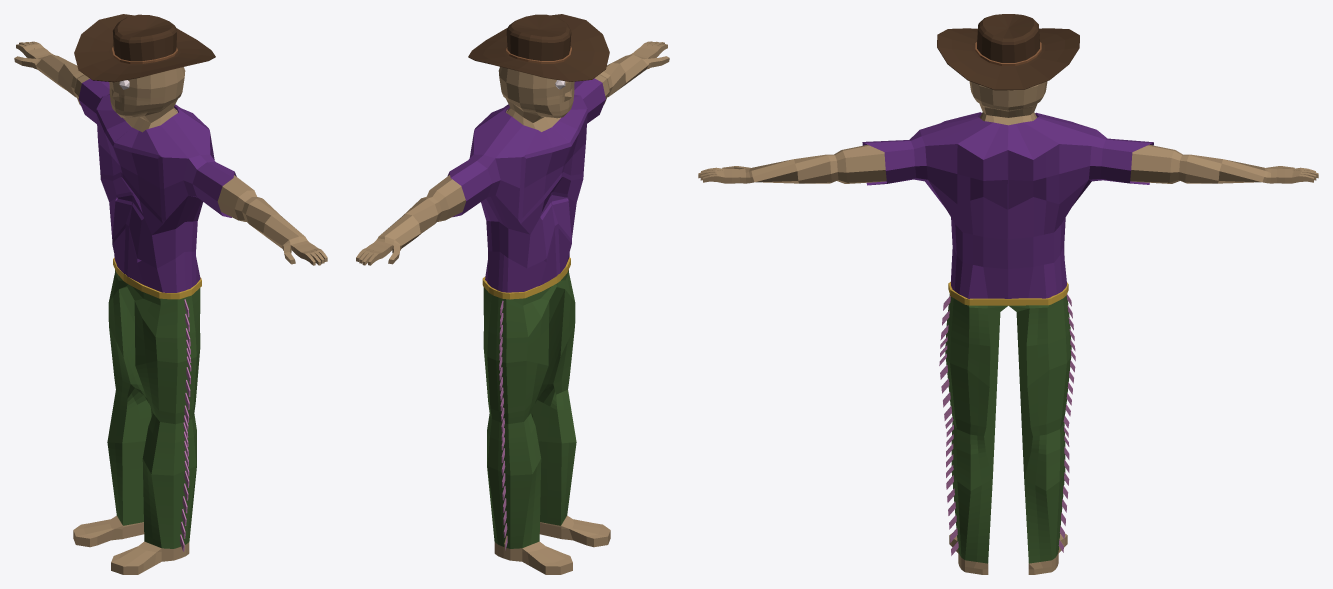
The model's file is czowiek_z_ubraniem_bez_srodek.fbx.
3 views of the same model, side by side, from view 1: azimuth 30°, elevation 25°; view 2: azimuth 150°, elevation 25°; view 3: azimuth 270°, elevation 25° (orthographic). The views are drawn at different scales.
Visible parts, largest first — view 1: Cube; view 2: Cube; view 3: Cube.
Part boxes in pixels (box(x1,y1,x2,y2)): Cube: box(14, 14, 327, 574); Cube: box(356, 14, 669, 574); Cube: box(698, 14, 1318, 574).
Bounding box in the file's own units: 300 × 1242 × 1296.
